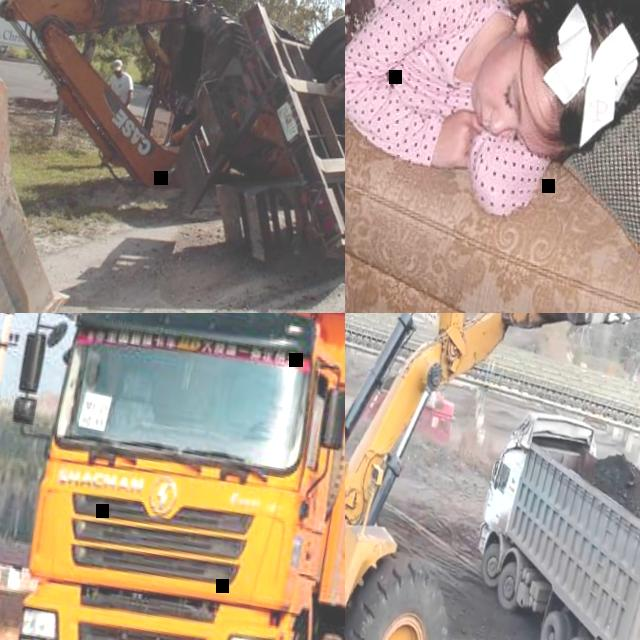NO-Hardhat: (503, 0, 640, 166), (111, 56, 122, 71)
NO-Mask: (463, 57, 504, 129), (114, 73, 122, 79)
NO-Safety Vest: (358, 0, 496, 123), (109, 71, 129, 98)
Person: (345, 0, 640, 239), (92, 55, 138, 170)
vehicle: (0, 313, 345, 640), (0, 0, 345, 295), (345, 313, 640, 640), (452, 399, 640, 640), (0, 32, 108, 313), (363, 370, 459, 443)
